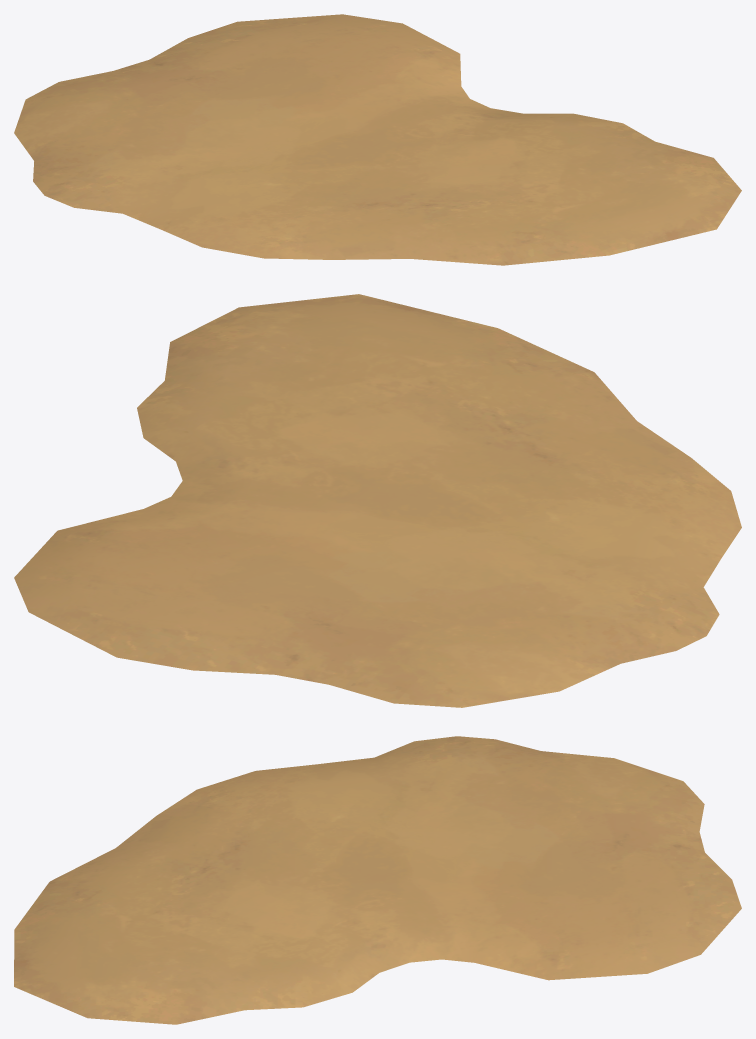
File: guixianrendao_dibiao.FBX
3 views of the same model, one above another, from view 1: azimuth 30°, elevation 25°; view 2: azimuth 150°, elevation 25°; view 3: azimuth 270°, elevation 25° (orthographic). The views are drawn at different scales.
Parts seen in each view (by area): view 1: Plane002; view 2: Plane002; view 3: Plane002.
Part boxes in pixels (<box>): Plane002: <box>14,14,741,265</box>; Plane002: <box>14,294,741,707</box>; Plane002: <box>14,736,741,1024</box>.
Size of the model in its own units: 11304 by 188 by 12049.
